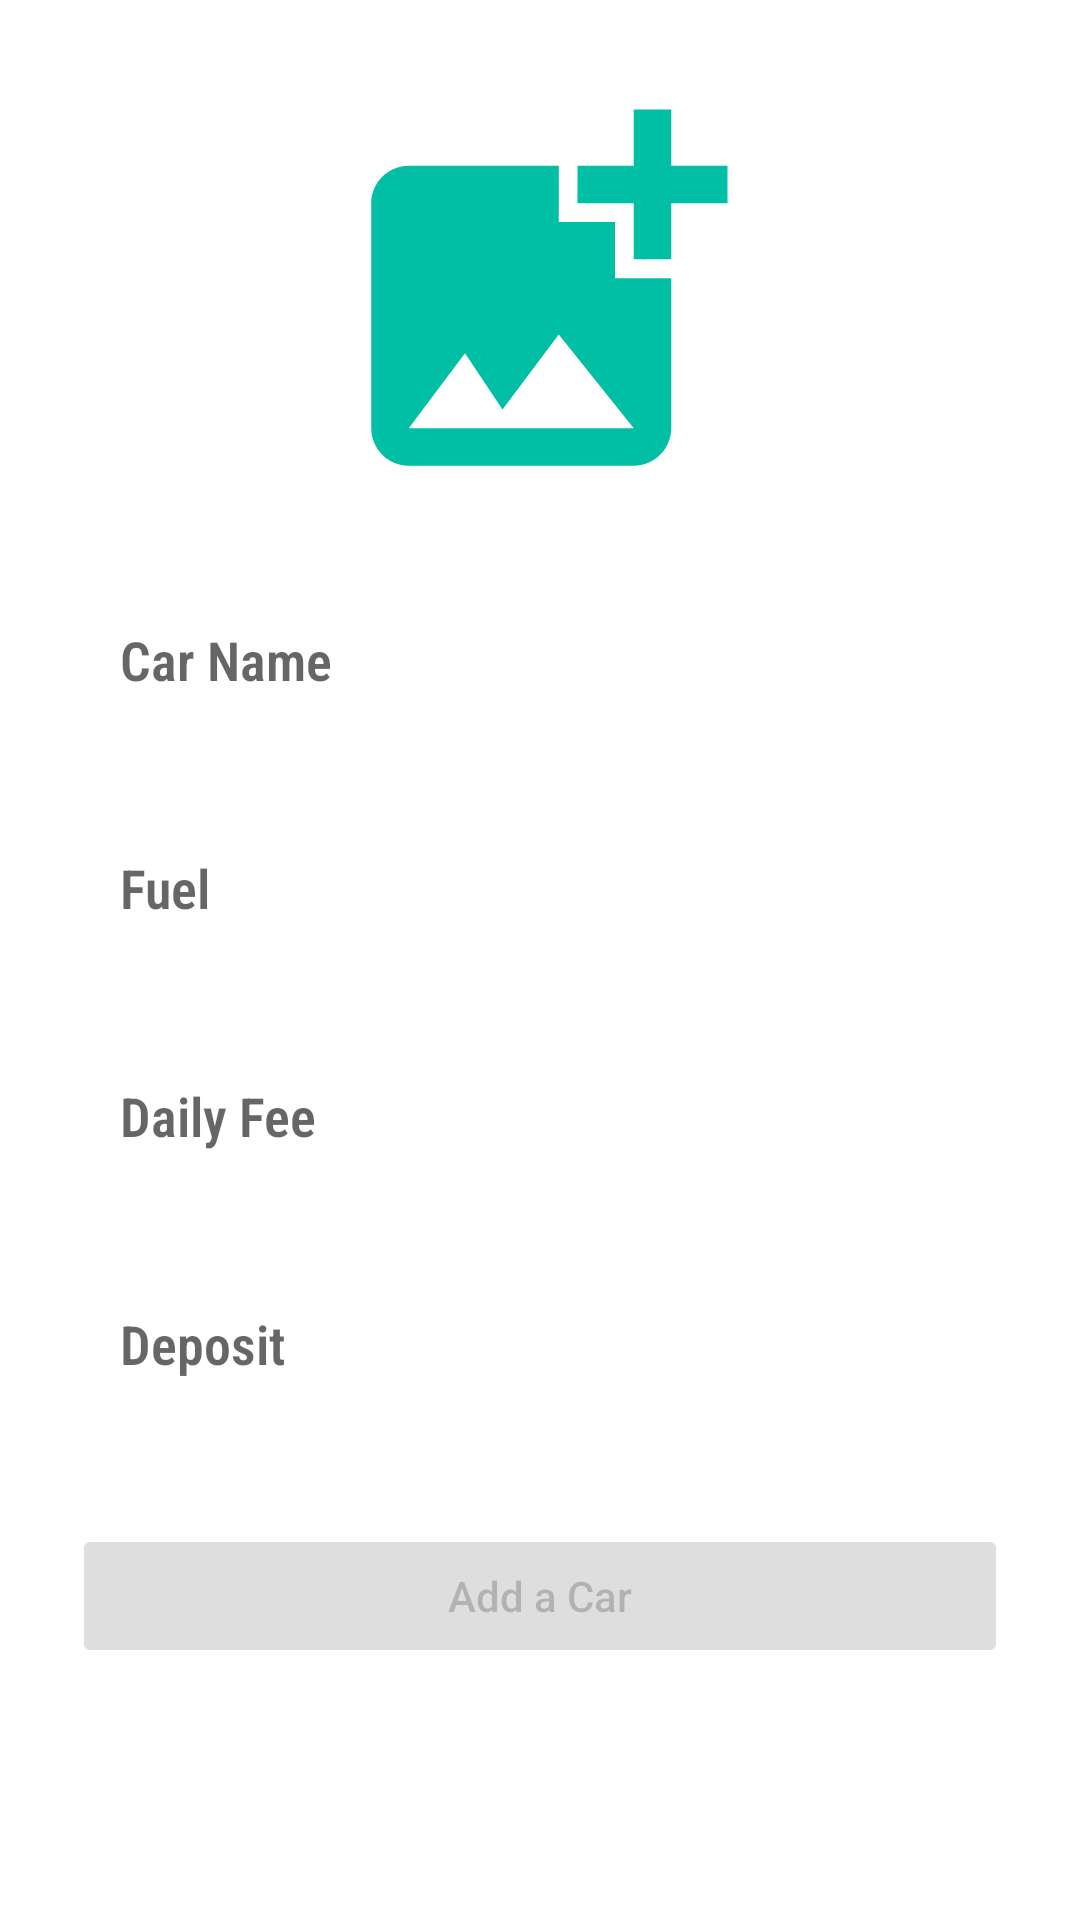

Icon click points for this 1080x1920 phone screenshot, format point (x, y):
add: point (549, 287)
